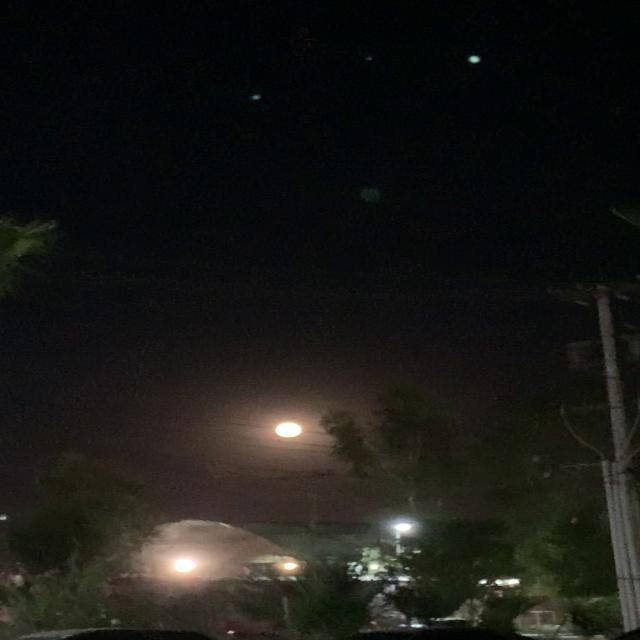moon: (261, 422, 314, 448)
